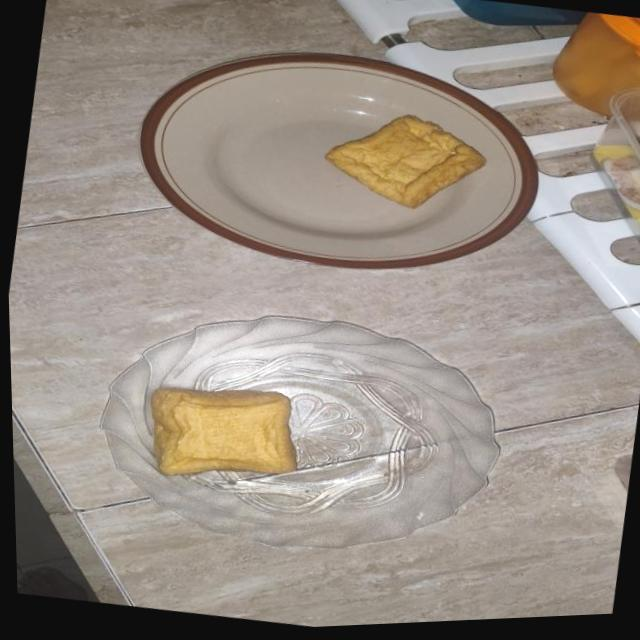tahu_goreng: (324, 115, 486, 208), (151, 388, 296, 474)
